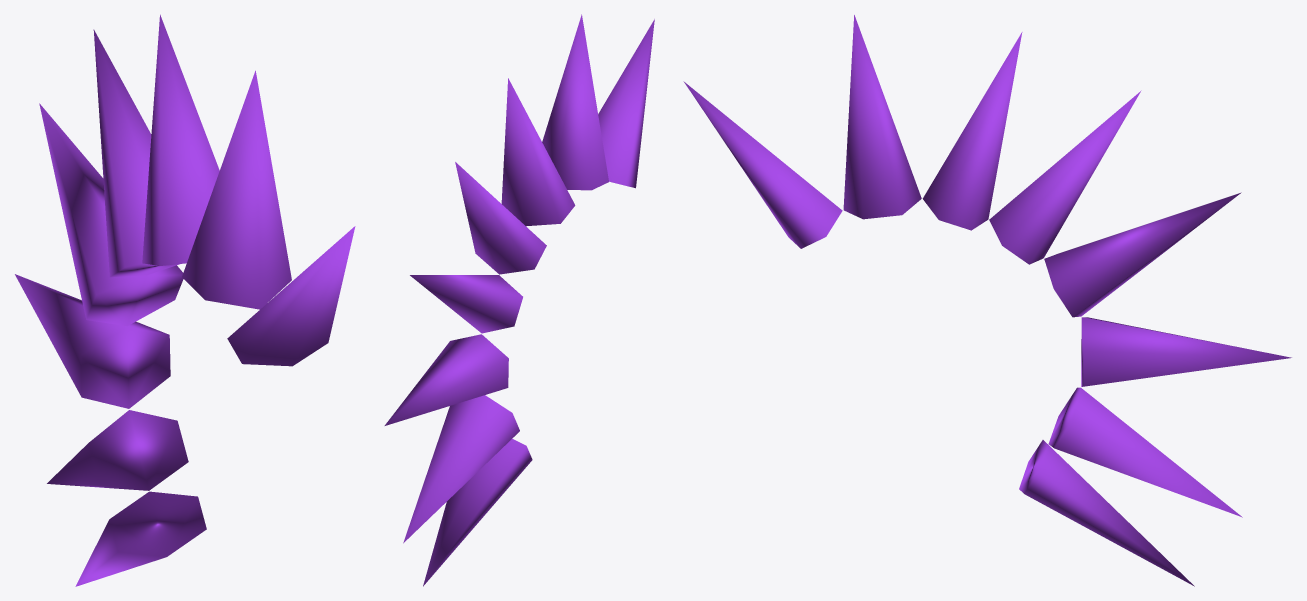
File: CU_Mohawk.fbx
3 views of the same model, side by side, from view 1: azimuth 30°, elevation 25°; view 2: azimuth 150°, elevation 25°; view 3: azimuth 270°, elevation 25° (orthographic). The views are drawn at different scales.
Visible parts, largest first — view 1: SpikeHair; view 2: SpikeHair; view 3: SpikeHair.
Boxes of the visible parts, x1,y1,x2,y2 form: SpikeHair: [15, 14, 355, 586]; SpikeHair: [384, 14, 654, 586]; SpikeHair: [683, 15, 1291, 586].
Size of the model in its own units: 37.42 by 246 by 241.
